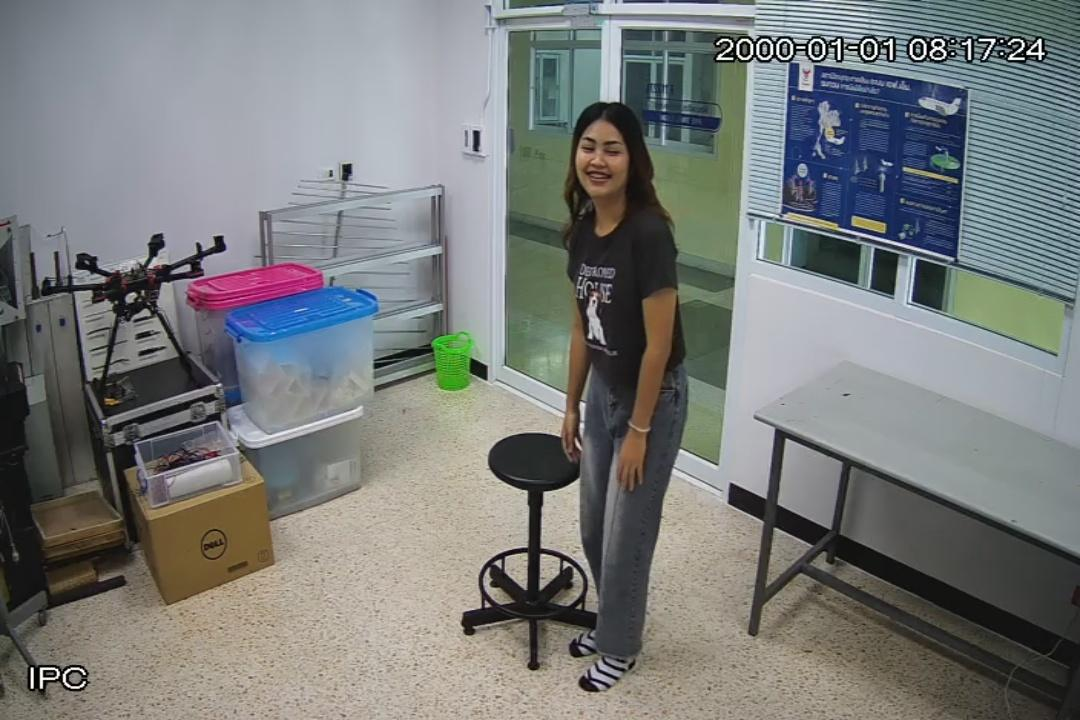normal: (560, 101, 693, 690)
